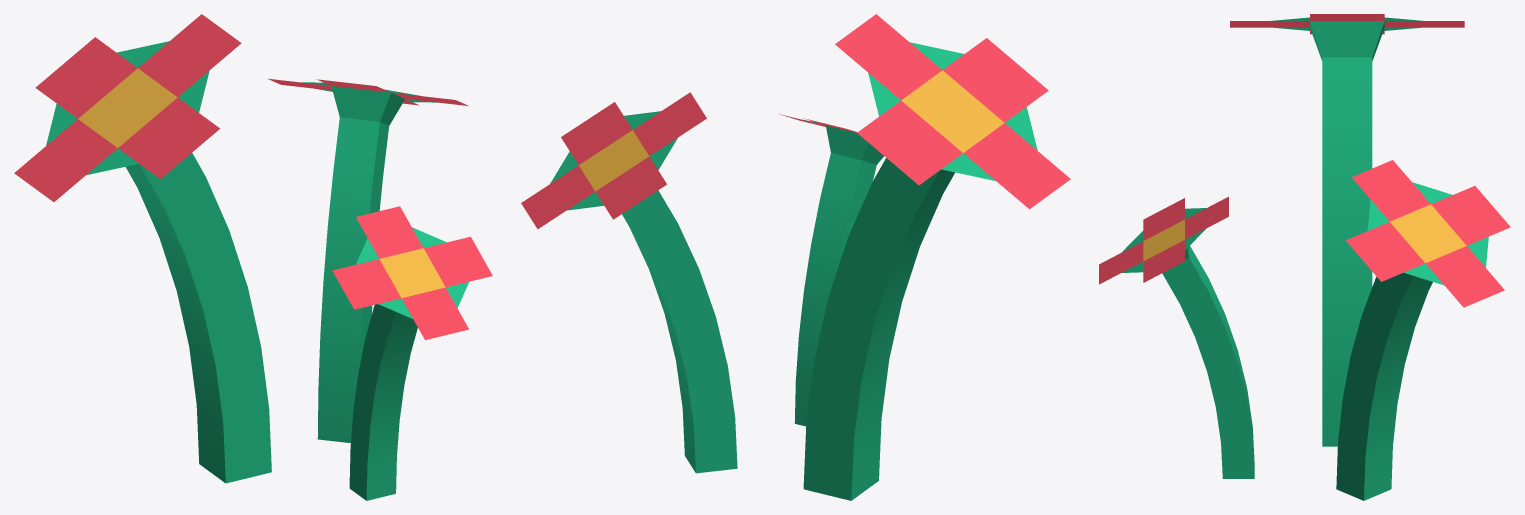
Rendered from flowers.fbx.
The picture shows the model from 3 angles, left to right: view 1: azimuth 30°, elevation 25°; view 2: azimuth 150°, elevation 25°; view 3: azimuth 270°, elevation 25°; orthographic projection. The views are drawn at different scales.
Parts seen in each view (by area): view 1: flowers; view 2: flowers; view 3: flowers.
Part boxes in pixels (box(x1,y1,x2,y2)): flowers: box(14, 14, 492, 500); flowers: box(521, 14, 1070, 500); flowers: box(1099, 14, 1510, 500).
Bounding box in the file's own units: 4.97 × 4.64 × 4.17.
